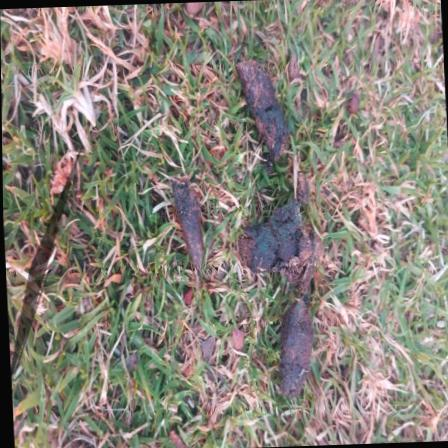dog-poop: (247, 67, 331, 403), (170, 167, 216, 280)
